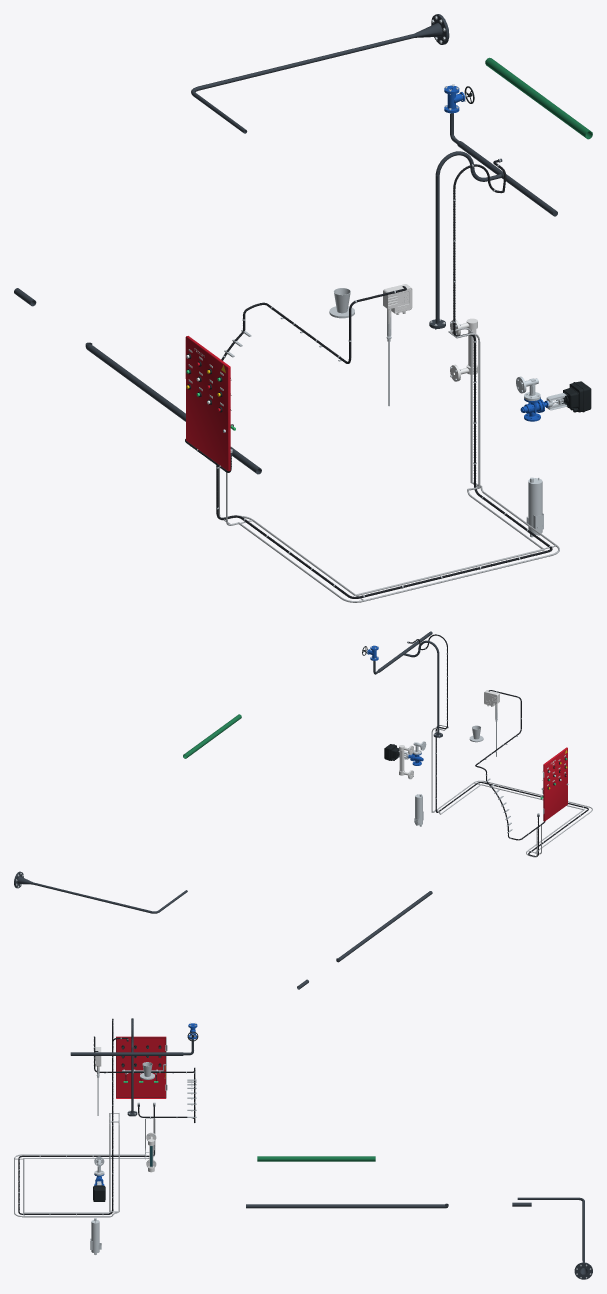
Rendered from s4000-4-IJOkorvG.glb.
The picture shows the model from 3 angles, top to bottom: view 1: azimuth 30°, elevation 25°; view 2: azimuth 150°, elevation 25°; view 3: azimuth 270°, elevation 25°; orthographic projection. The views are drawn at different scales.
Visible parts, largest first — view 1: cabinet_door / cabinet_door_5.npz, cables / zinc, wiring_pressure_switch_3 / black, pressure_header / dark, tds_to_fv / dark, bcv925 / bcv925_0.npz, pump_delivery / green, bottom_piping / dark, lcs600 CAD solid 0, wiring_lcs600 / black, sc9 / sc9_0.npz; view 2: cabinet_door / cabinet_door_5.npz, cables / zinc, wiring_pressure_switch_3 / black, pressure_header / dark, tds_to_fv / dark, bottom_piping / dark; view 3: cabinet_door / cabinet_door_5.npz, cables / zinc, bottom_piping / dark, wiring_pressure_switch_3 / black, pressure_header / dark, pump_delivery / green, tds_to_fv / dark, wiring_lcs600 / black.
Boxes of the visible parts, left/top/right/bottom form: cabinet_door / cabinet_door_5.npz: left=185, top=336, right=231, bottom=471; cables / zinc: left=218, top=327, right=559, bottom=602; wiring_pressure_switch_3 / black: left=216, top=159, right=552, bottom=598; pressure_header / dark: left=429, top=113, right=557, bottom=328; tds_to_fv / dark: left=191, top=14, right=449, bottom=133; bcv925 / bcv925_0.npz: left=520, top=381, right=591, bottom=421; pump_delivery / green: left=485, top=57, right=592, bottom=139; bottom_piping / dark: left=85, top=342, right=261, bottom=474; lcs600 CAD solid 0: left=383, top=284, right=412, bottom=406; wiring_lcs600 / black: left=185, top=286, right=406, bottom=472; sc9 / sc9_0.npz: left=526, top=477, right=543, bottom=537; cabinet_door / cabinet_door_5.npz: left=542, top=747, right=568, bottom=821; cables / zinc: left=431, top=725, right=592, bottom=857; wiring_pressure_switch_3 / black: left=409, top=634, right=588, bottom=856; pressure_header / dark: left=373, top=631, right=442, bottom=737; tds_to_fv / dark: left=14, top=871, right=187, bottom=913; bottom_piping / dark: left=336, top=891, right=432, bottom=962; cabinet_door / cabinet_door_5.npz: left=116, top=1036, right=167, bottom=1098; cables / zinc: left=14, top=1113, right=155, bottom=1217; bottom_piping / dark: left=246, top=1203, right=448, bottom=1208; wiring_pressure_switch_3 / black: left=18, top=1018, right=154, bottom=1214; pressure_header / dark: left=70, top=1018, right=193, bottom=1116; pump_delivery / green: left=257, top=1156, right=375, bottom=1161; tds_to_fv / dark: left=517, top=1197, right=592, bottom=1279; wiring_lcs600 / black: left=93, top=1036, right=195, bottom=1122.
Size of the model in its own units: 4.43 by 2.67 by 6.12.
